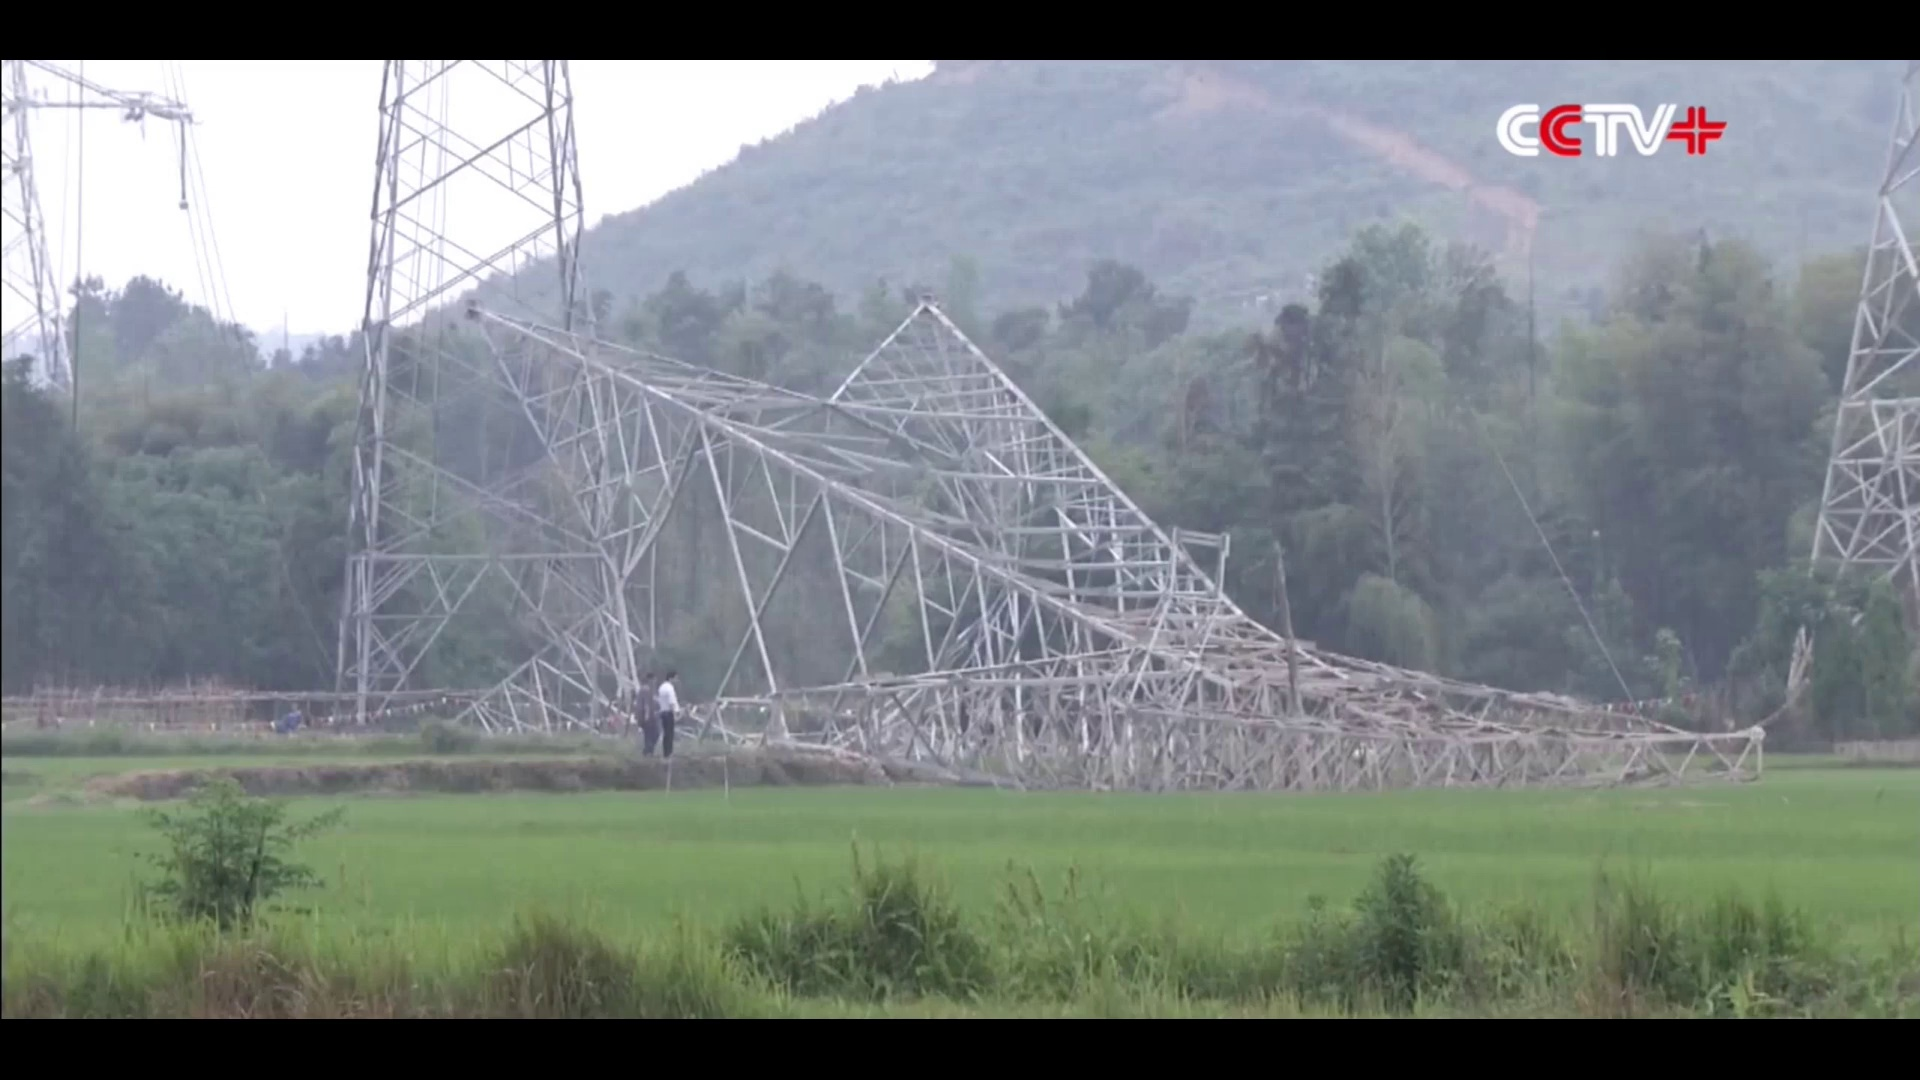tower_down: (492, 286, 1805, 785)
